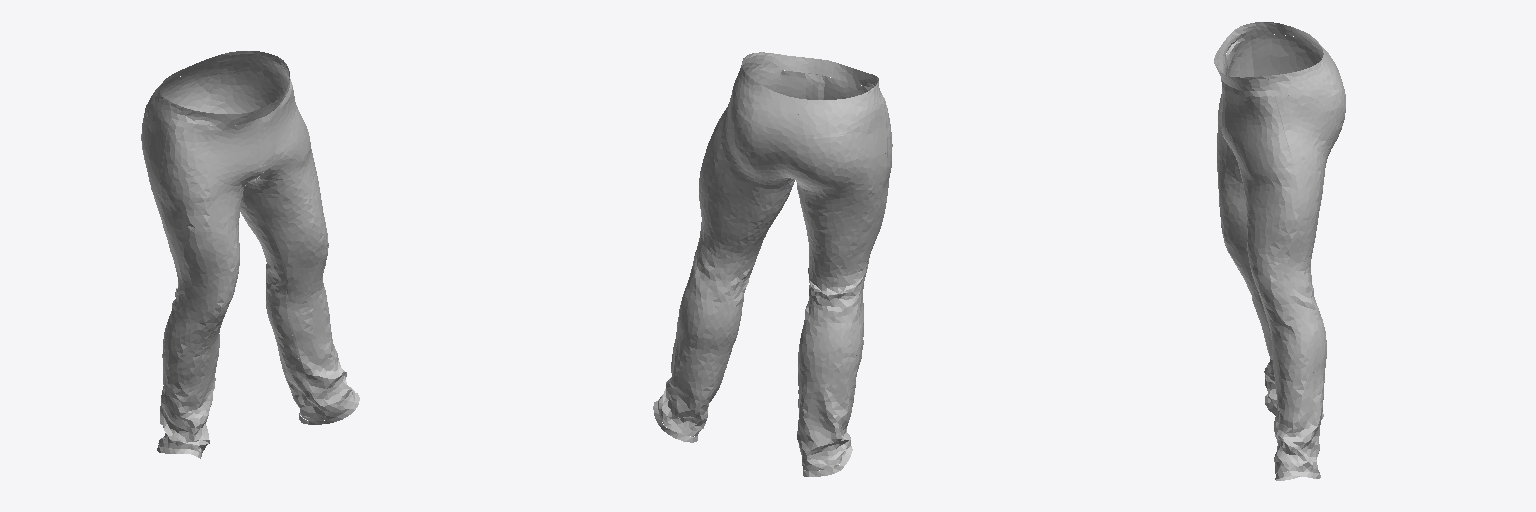
File: jeans.obj
3 views of the same model, side by side, from view 1: azimuth 30°, elevation 25°; view 2: azimuth 150°, elevation 25°; view 3: azimuth 270°, elevation 25° (orthographic).
Parts seen in each view (by area): view 1: Cloth_Cloth_mesh; view 2: Cloth_Cloth_mesh; view 3: Cloth_Cloth_mesh.
Boxes of the visible parts, <box> form: Cloth_Cloth_mesh: <box>141,51,359,458</box>; Cloth_Cloth_mesh: <box>653,52,892,476</box>; Cloth_Cloth_mesh: <box>1214,22,1345,480</box>.
Size of the model in its own units: 0.5874 by 1.01 by 0.3143.